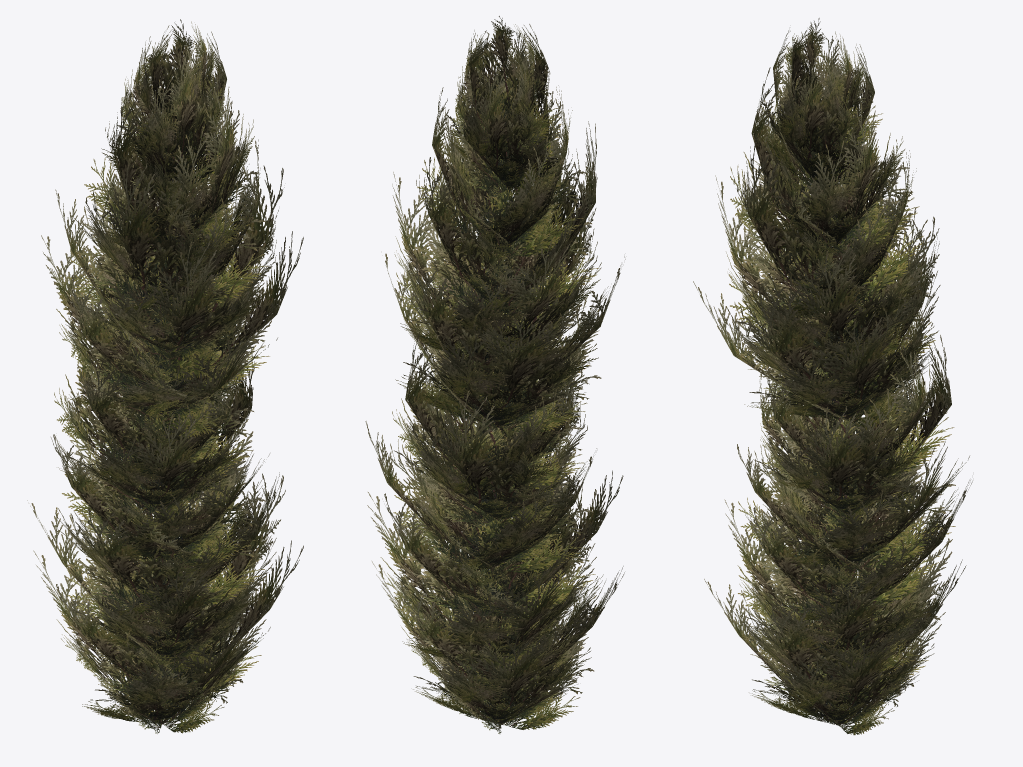
File: manorBush_C.fbx
3 renders of one model, left to right at view 1: azimuth 30°, elevation 25°; view 2: azimuth 150°, elevation 25°; view 3: azimuth 270°, elevation 25°, orthographic.
Parts seen in each view (by area): view 1: manorBush_C; view 2: manorBush_C; view 3: manorBush_C.
Part boxes in pixels (x1,y1,x2,y2): manorBush_C: [27, 19, 303, 733]; manorBush_C: [365, 16, 625, 733]; manorBush_C: [693, 18, 972, 735].
Bounding box in the file's own units: 9.98 × 25.66 × 10.73.
